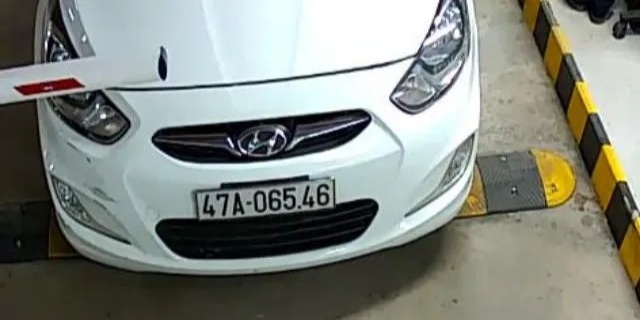bien_so: (198, 182, 334, 219)
